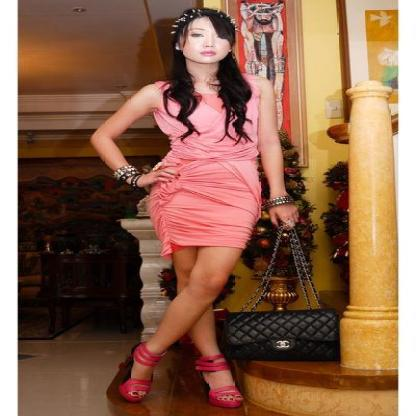bag: (237, 296, 349, 363)
dress: (140, 99, 261, 255)
shoe: (120, 343, 242, 406)
